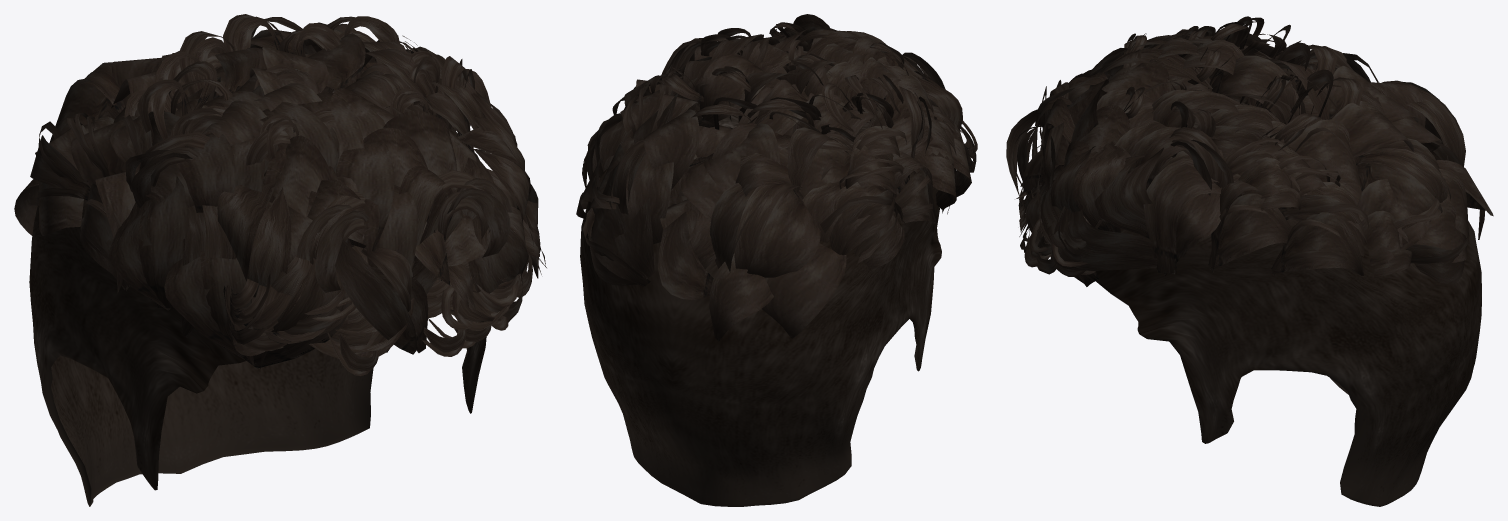
File: Oblong_Curly_Fringe.glb
The picture shows the model from 3 angles, left to right: view 1: azimuth 30°, elevation 25°; view 2: azimuth 150°, elevation 25°; view 3: azimuth 270°, elevation 25°; orthographic projection. The views are drawn at different scales.
Visible parts, largest first — view 1: CURLY UNDERCUT, SCALP_NEW; view 2: CURLY UNDERCUT, SCALP_NEW; view 3: CURLY UNDERCUT, SCALP_NEW.
Boxes of the visible parts, x1,y1,x2,y2 form: CURLY UNDERCUT: [14, 14, 546, 376]; SCALP_NEW: [29, 89, 486, 506]; CURLY UNDERCUT: [576, 14, 977, 341]; SCALP_NEW: [580, 101, 941, 506]; CURLY UNDERCUT: [1006, 16, 1493, 286]; SCALP_NEW: [1095, 96, 1481, 506].
Bounding box in the file's own units: 0.1911 × 0.2227 × 0.2334.
2 materials, 2 textured.
